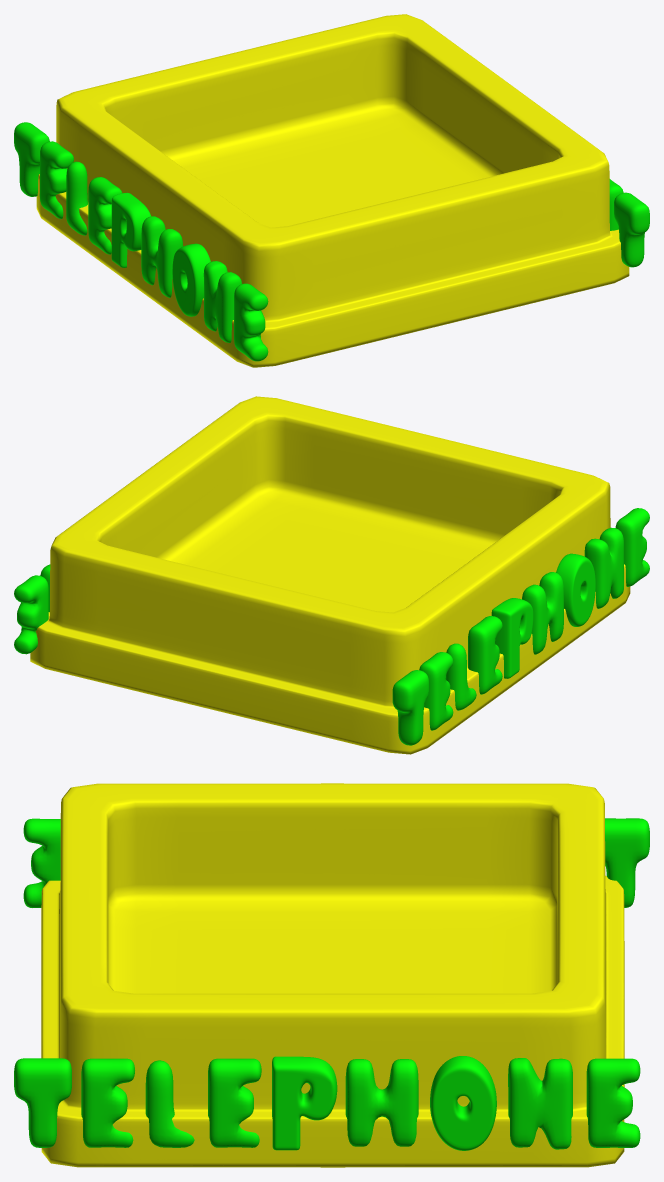
3 renders of one model, top to bottom at view 1: azimuth 30°, elevation 25°; view 2: azimuth 150°, elevation 25°; view 3: azimuth 270°, elevation 25°, orthographic. The views are drawn at different scales.
Parts seen in each view (by area): view 1: TELEPHONE:typeMesh2; view 2: TELEPHONE:typeMesh2; view 3: TELEPHONE:typeMesh2.
Part boxes in pixels (bbox=[...]): TELEPHONE:typeMesh2: bbox=[14, 14, 649, 367]; TELEPHONE:typeMesh2: bbox=[14, 396, 649, 754]; TELEPHONE:typeMesh2: bbox=[14, 783, 649, 1167].
Bounding box in the file's own units: 1.02 × 0.2857 × 1.09.
